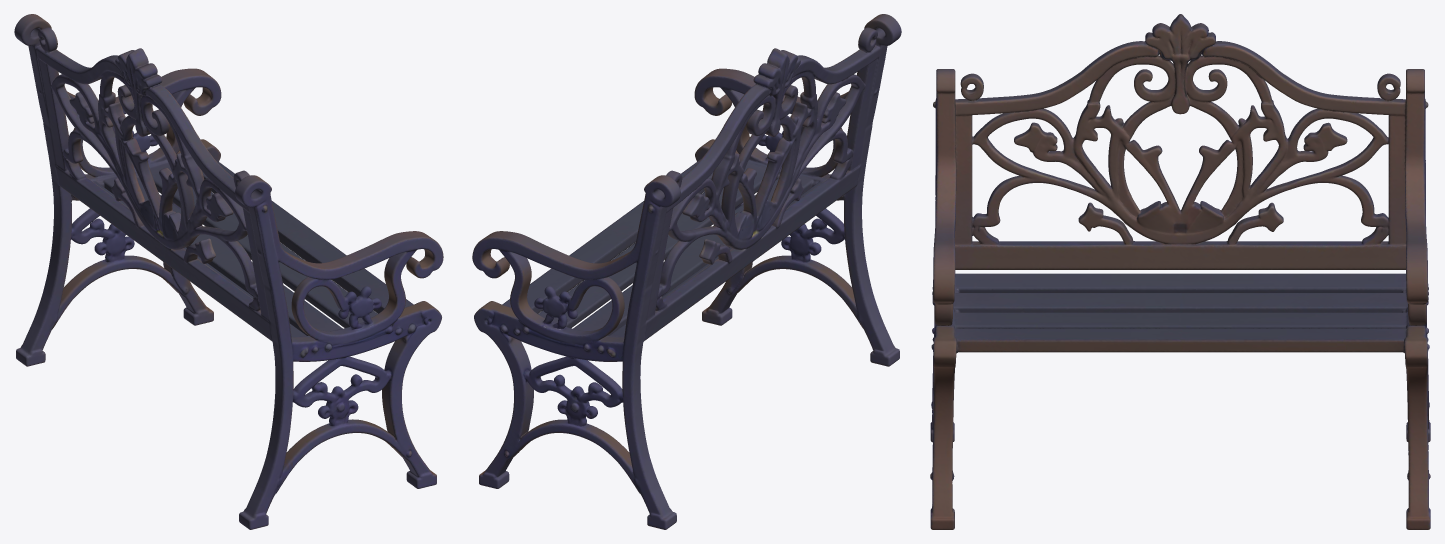
The model's file is garden_bench.glb.
3 views of the same model, side by side, from view 1: azimuth 30°, elevation 25°; view 2: azimuth 150°, elevation 25°; view 3: azimuth 270°, elevation 25° (orthographic). The views are drawn at different scales.
Visible parts, largest first — view 1: tripo_node_b7b60a35-bc9c-4235-9a9f-f51dbed6a13c; view 2: tripo_node_b7b60a35-bc9c-4235-9a9f-f51dbed6a13c; view 3: tripo_node_b7b60a35-bc9c-4235-9a9f-f51dbed6a13c.
Part boxes in pixels (x1,y1,x2,y2): tripo_node_b7b60a35-bc9c-4235-9a9f-f51dbed6a13c: [14, 14, 443, 529]; tripo_node_b7b60a35-bc9c-4235-9a9f-f51dbed6a13c: [472, 14, 901, 529]; tripo_node_b7b60a35-bc9c-4235-9a9f-f51dbed6a13c: [930, 14, 1430, 529].
Size of the model in its own units: 0.4914 by 0.9278 by 1.
Materials: 1 (1 with a texture image).
